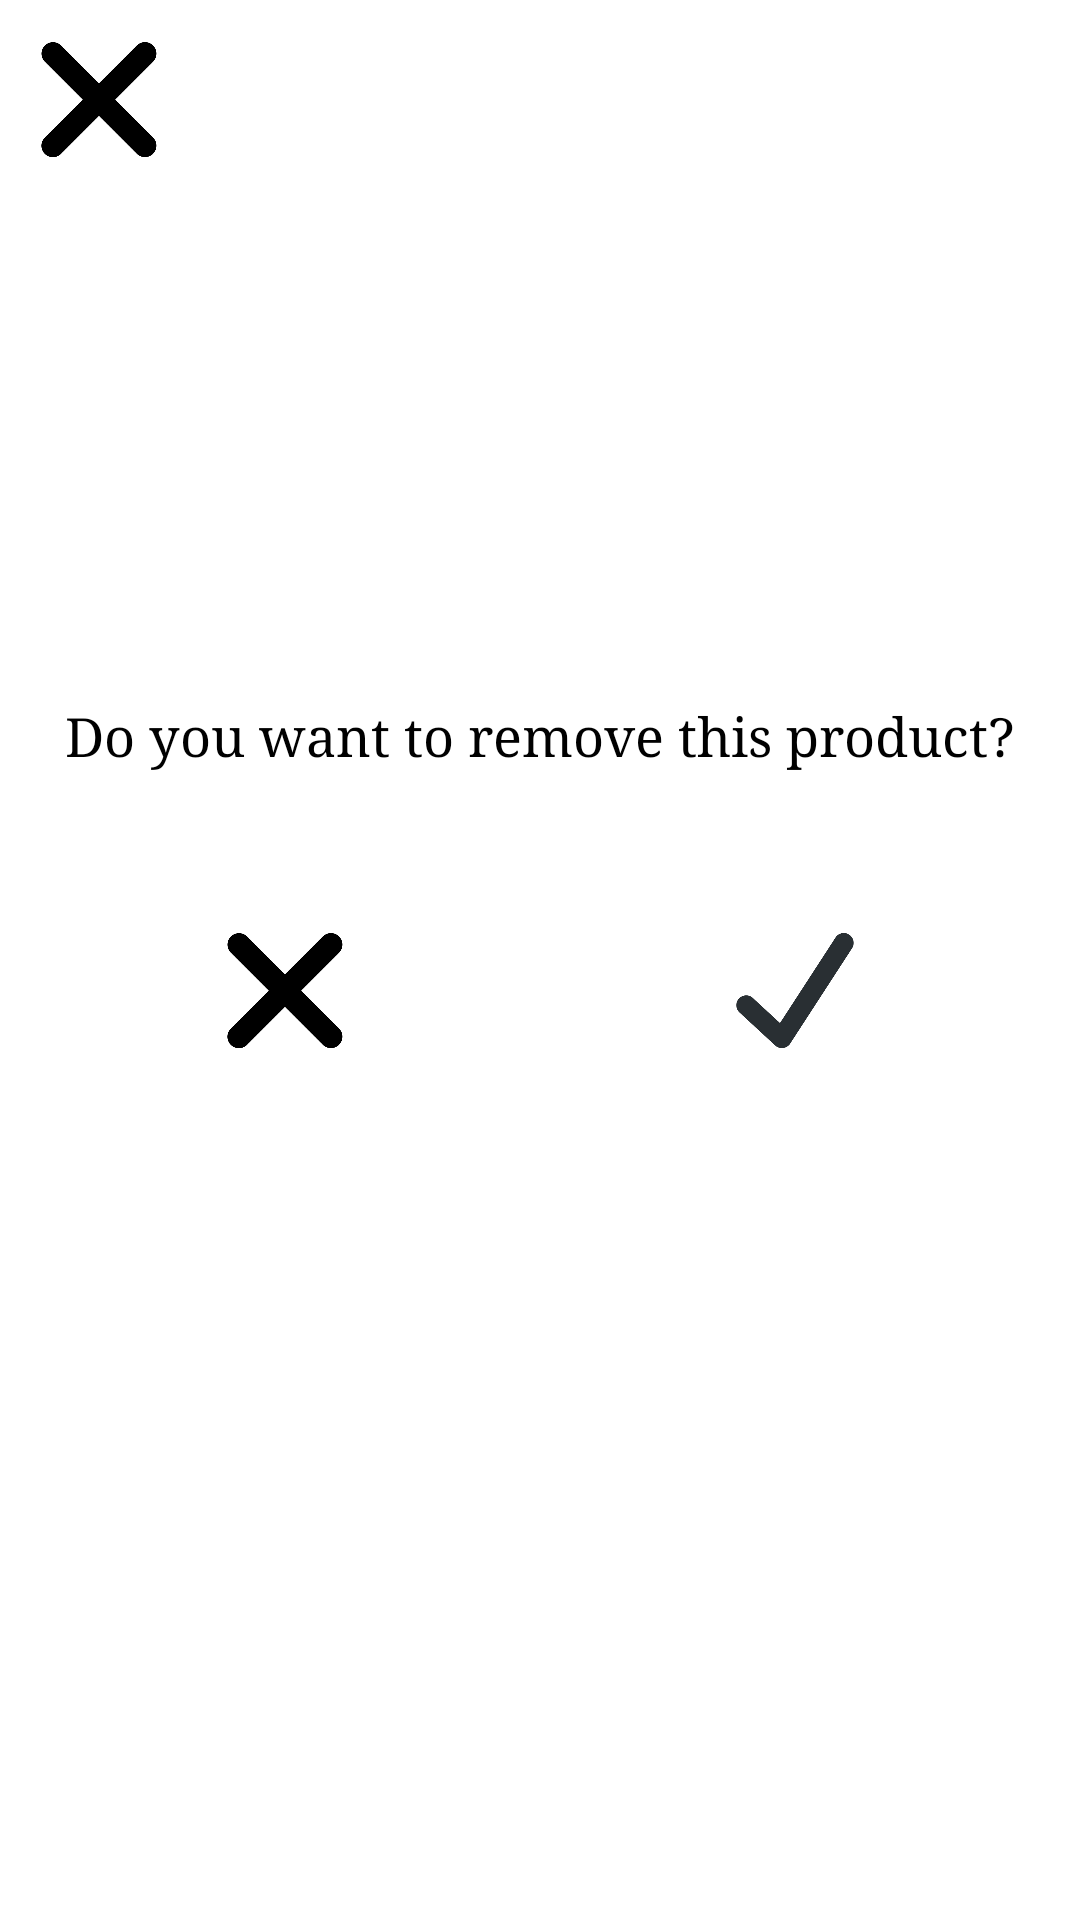

Named icons in this screenshot (1080px x 1920px) and their bounding boxes, [x1,y1,x2,y2]:
checkicon: [736,933,854,1048]
